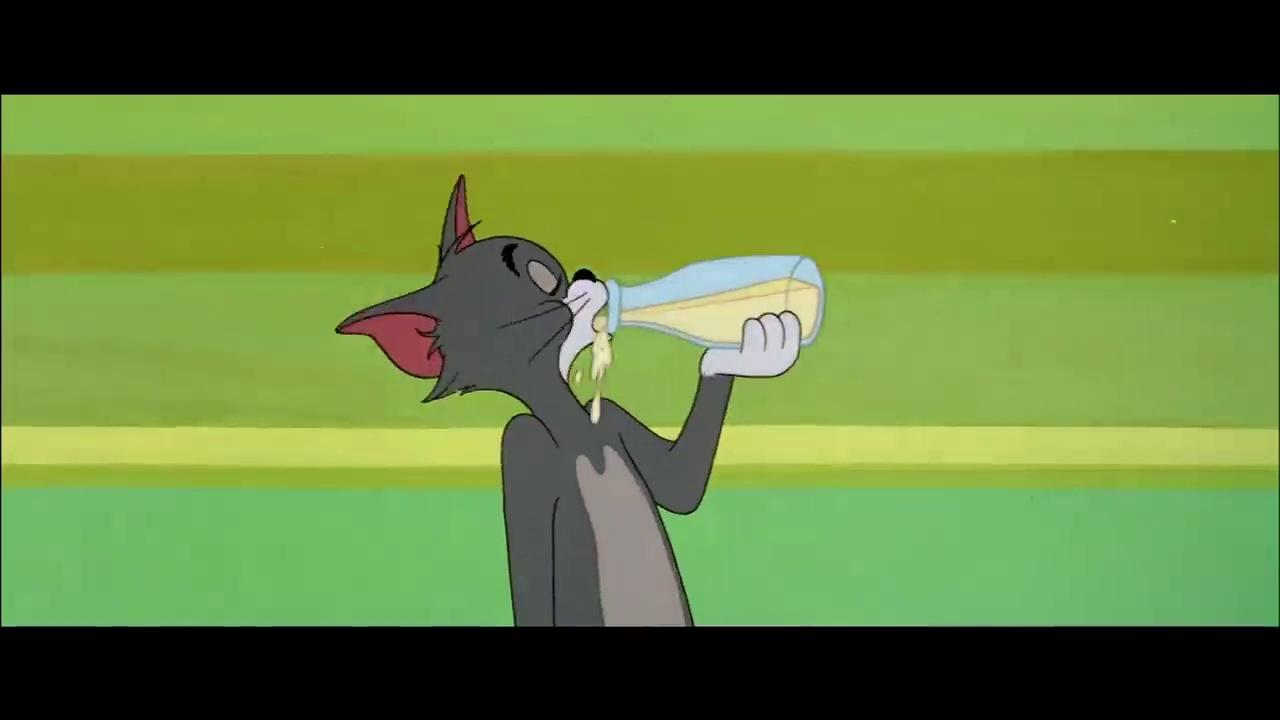Tom: (332, 172, 803, 625)
